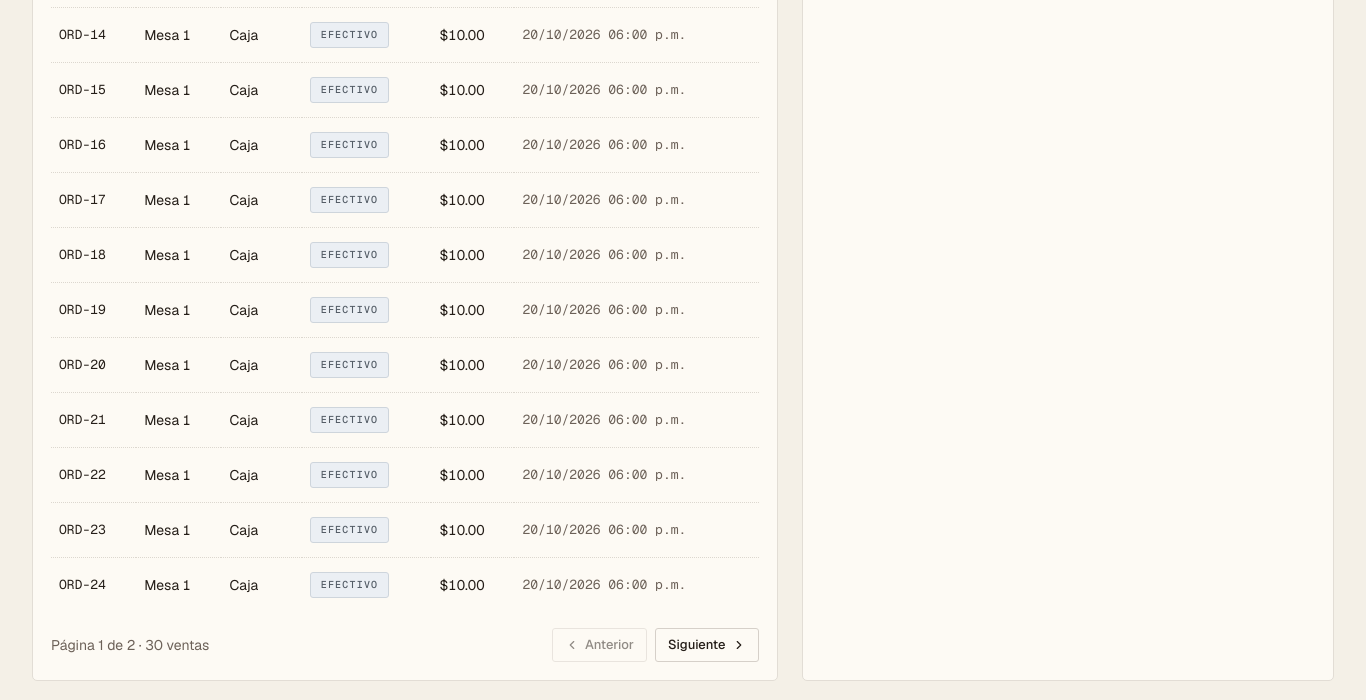
it: historial de ventas paginado (CAL-16) › cambiar el rango regresa a la primera página
(page scrolled)
Click the button "Siguiente" at (707, 645), box 655,628 -> 758,662
(page scrolled)
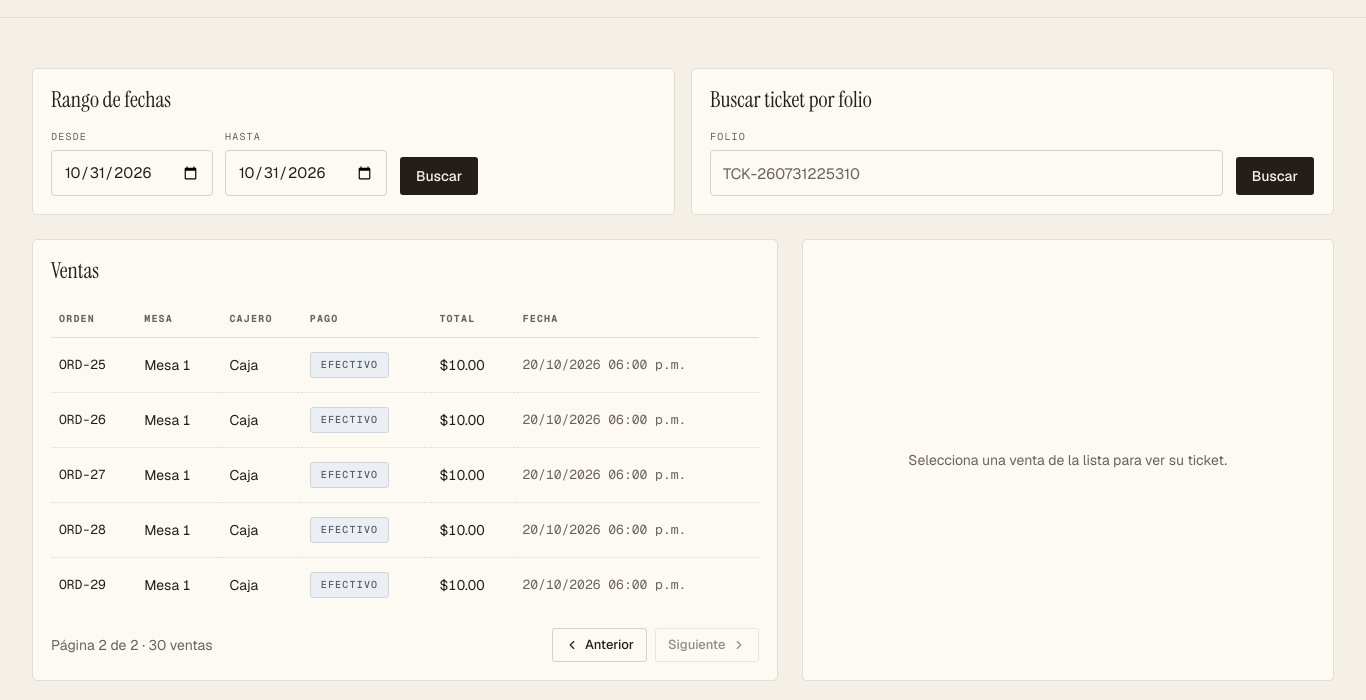
Expected: the text "ORD-25" is shown, 51,337 -> 136,392
Type "2026-10-01" into the date field labelled "Desde" at (132, 173), box 51,150 -> 213,196
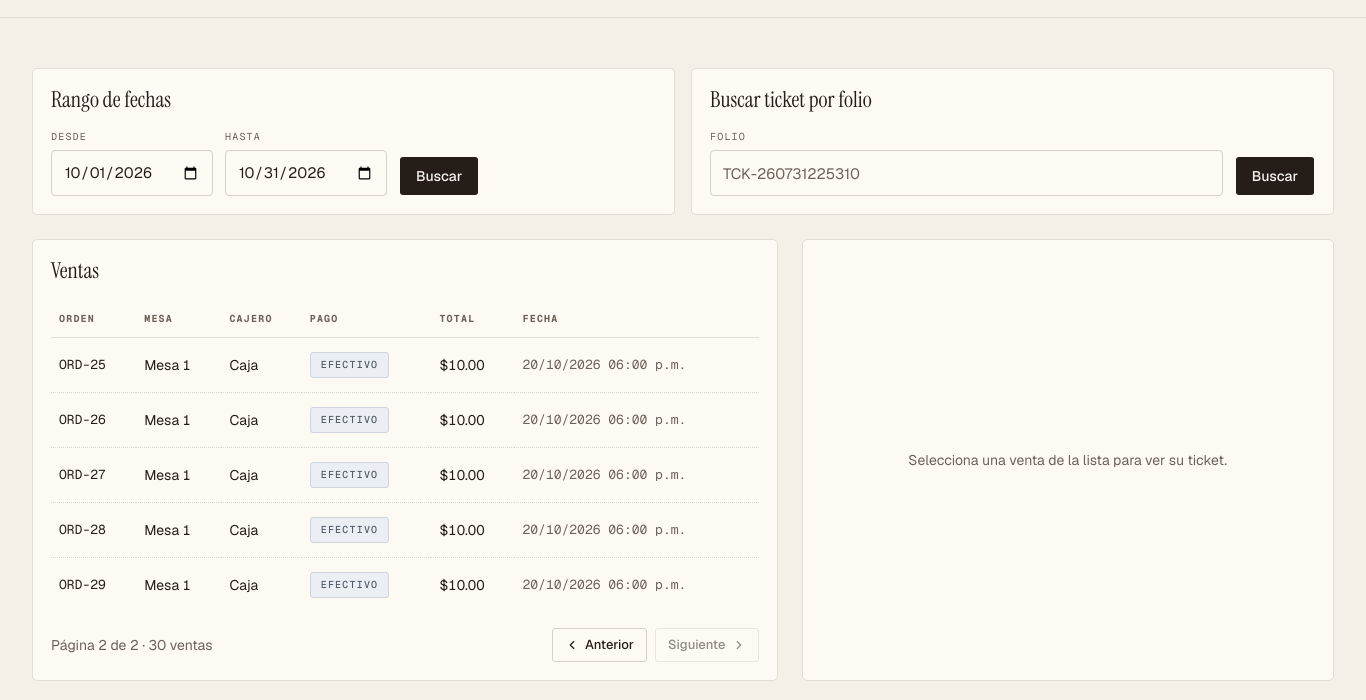
# Hay dos "Buscar" (rango y folio): se envia el formulario del rango.
Submit the form labelled "Desde", box 51,130 -> 479,196
(page scrolled)
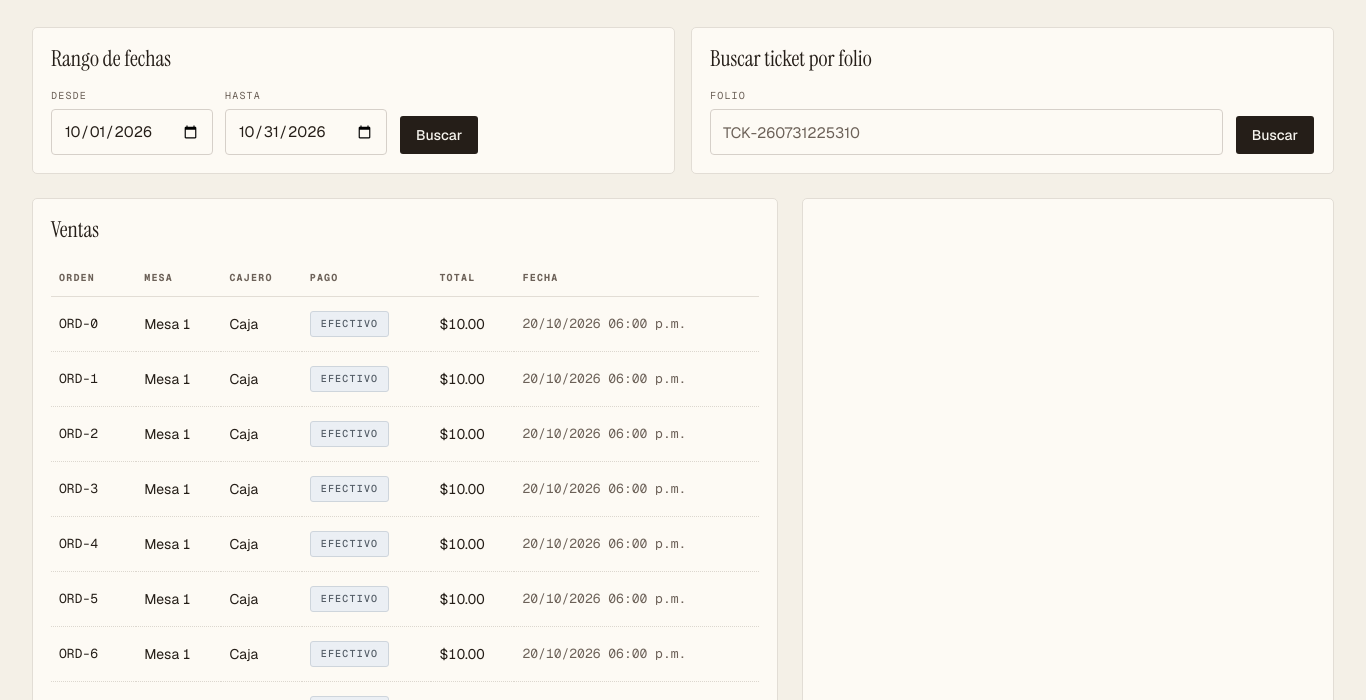
Expected: the text "ORD-0" is shown, 51,296 -> 136,351
